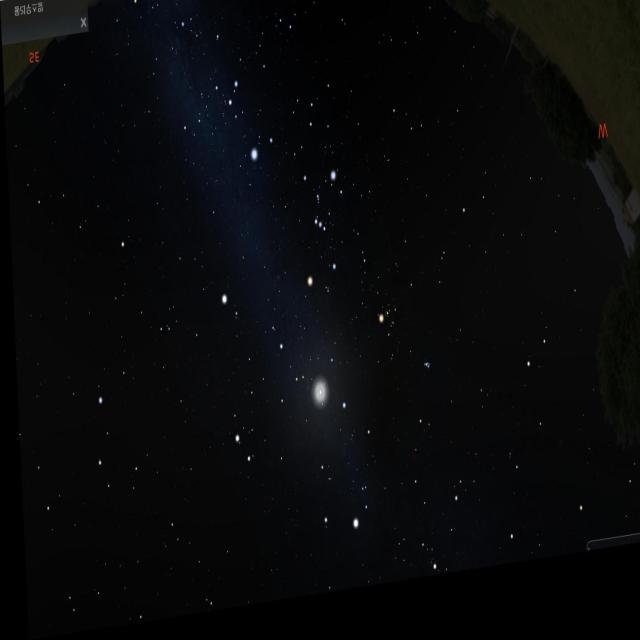canis_major: (223, 76, 275, 178)
canis_minor: (216, 290, 238, 336)
gemini: (222, 342, 298, 479)
moon: (308, 385, 326, 420)
orion: (292, 170, 345, 305)
pleiades: (418, 366, 430, 390)
taurus: (371, 286, 434, 408)
